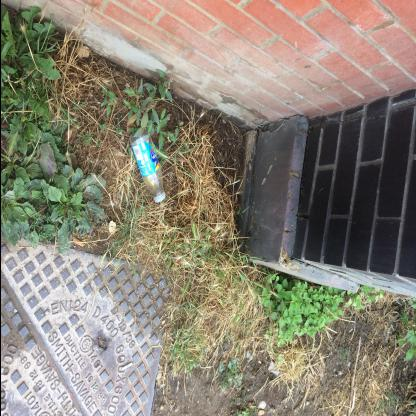plastik: (128, 127, 165, 203)
